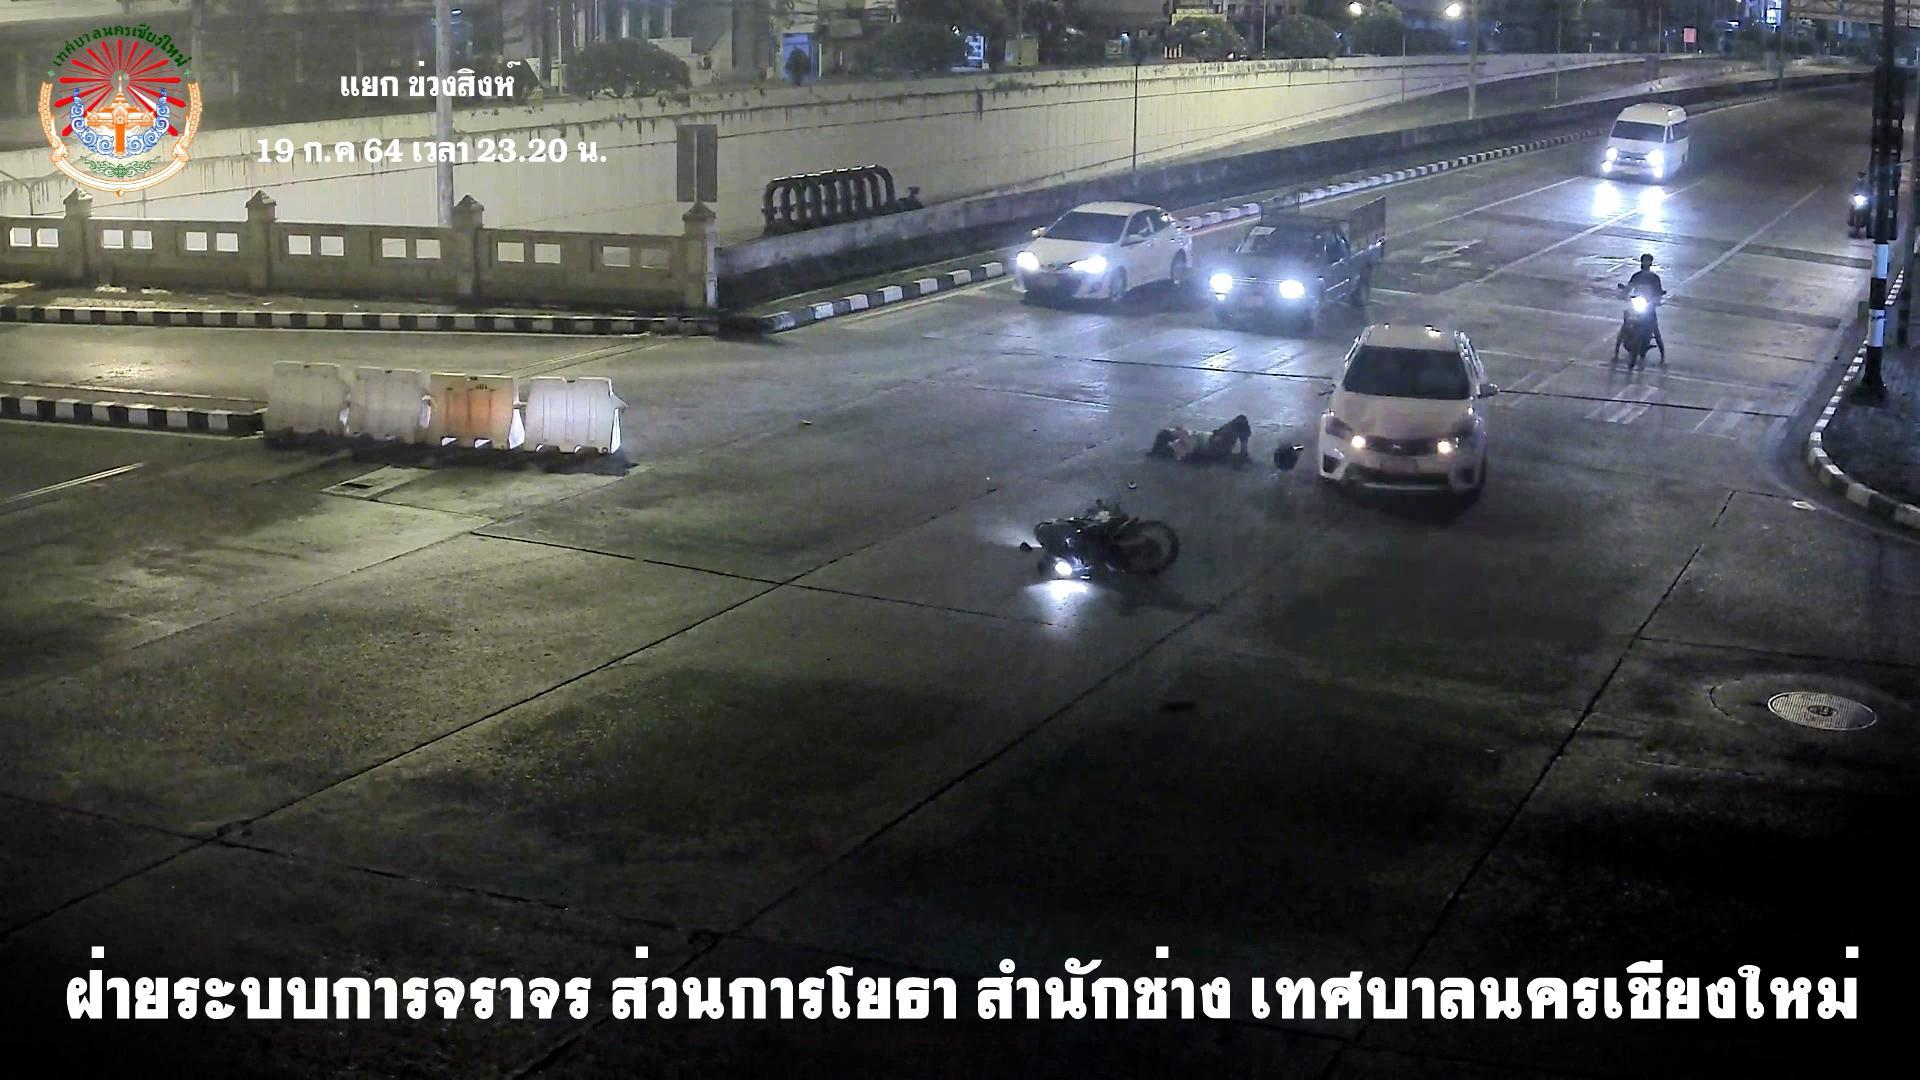accident: (1151, 415, 1261, 467)
